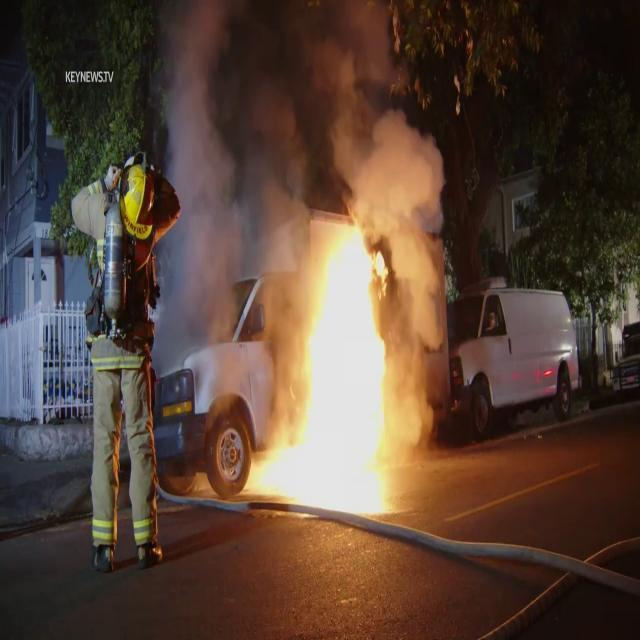Fire: (255, 205, 410, 524)
Smoke: (145, 0, 451, 273)
